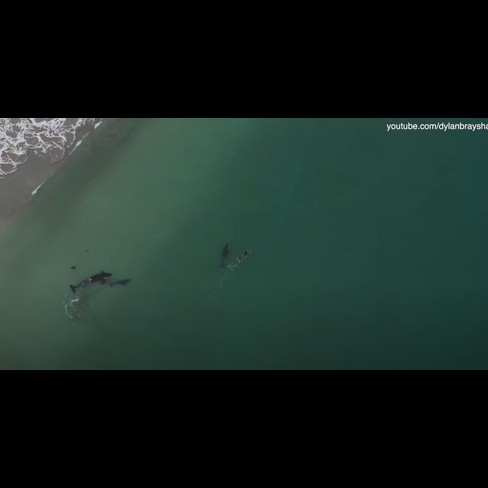orca: (66, 265, 115, 292), (219, 239, 231, 271), (107, 277, 132, 290)
